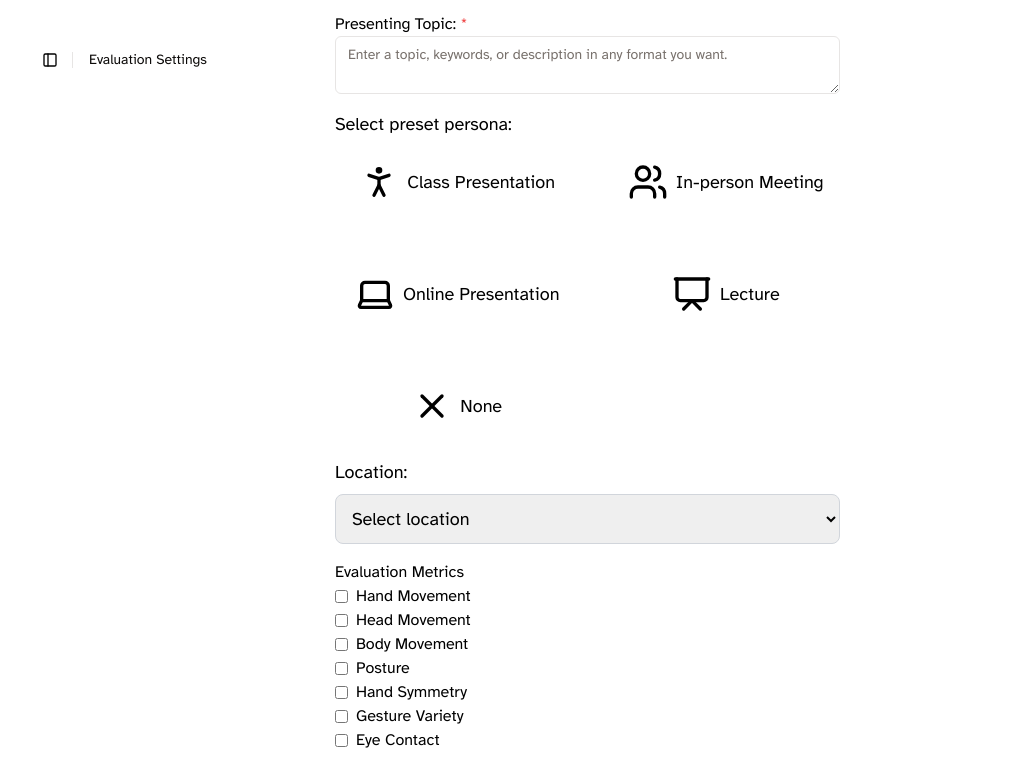
Test case: Page Component › updates form state when selecting class presentation persona
This screenshot has width=1024, height=771.
Click the button "Class Presentation": (453, 182) [335, 138, 572, 226]
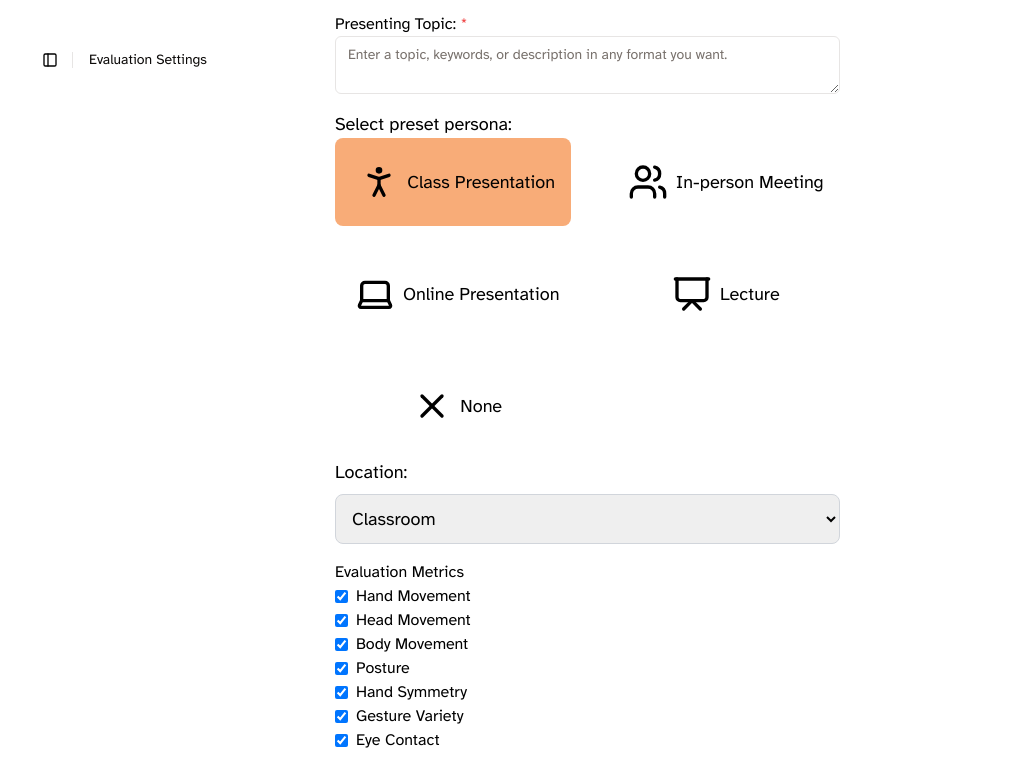
Check: the dropdown labelled "Location:" shows "Classroom", box [335, 494, 840, 544]
Check: the checkbox labelled "Eye Contact" is checked, box [335, 734, 348, 746]
